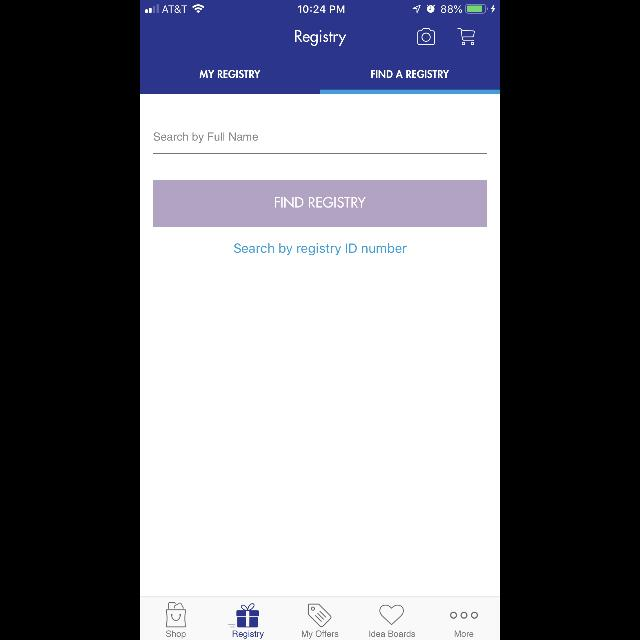icon: (228, 604, 260, 628), (308, 603, 332, 627), (166, 602, 186, 628), (380, 605, 404, 625), (457, 28, 475, 46), (418, 28, 434, 46), (450, 612, 478, 618)
input: (153, 132, 487, 154)
text: (235, 243, 407, 255), (154, 132, 258, 144), (296, 30, 346, 46), (371, 70, 449, 78), (200, 70, 260, 78), (369, 630, 415, 638), (302, 630, 338, 638), (232, 631, 264, 639), (166, 630, 186, 638), (454, 630, 474, 638)
textbutton: (154, 181, 486, 227)
uppertaskbar: (140, 0, 500, 14)
